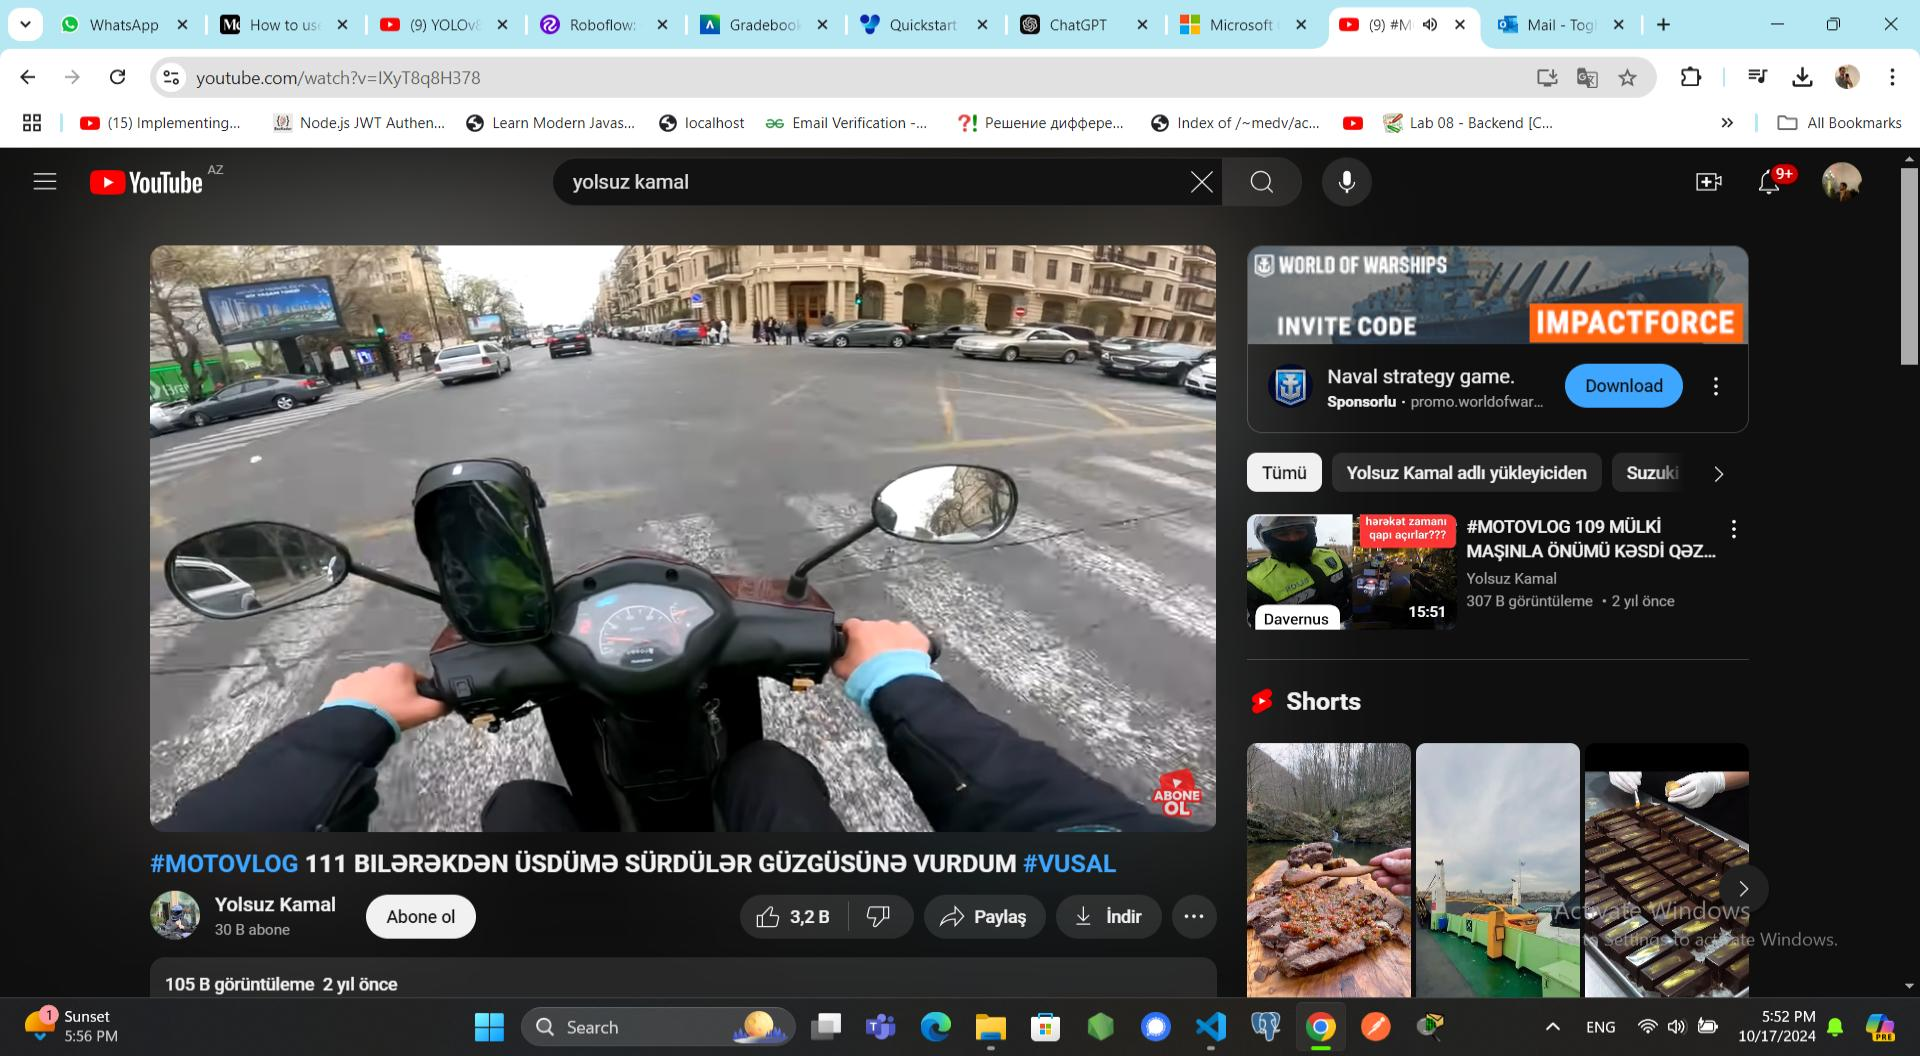banner: (182, 271, 359, 345)
